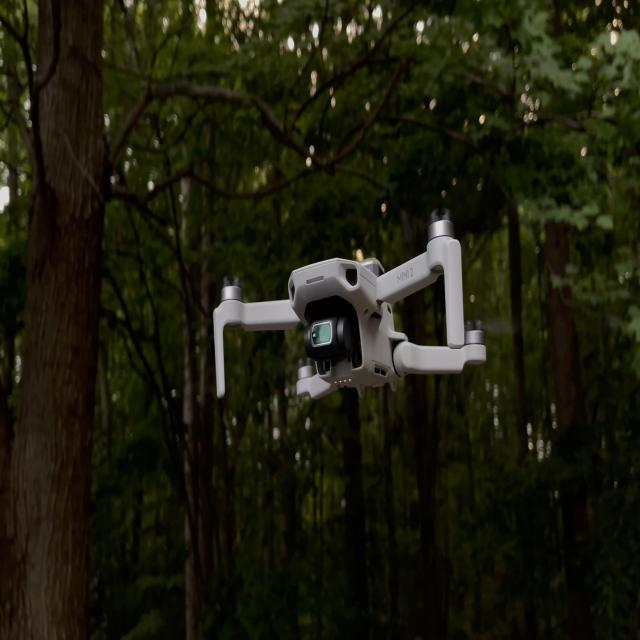Drone: (212, 216, 485, 394)
